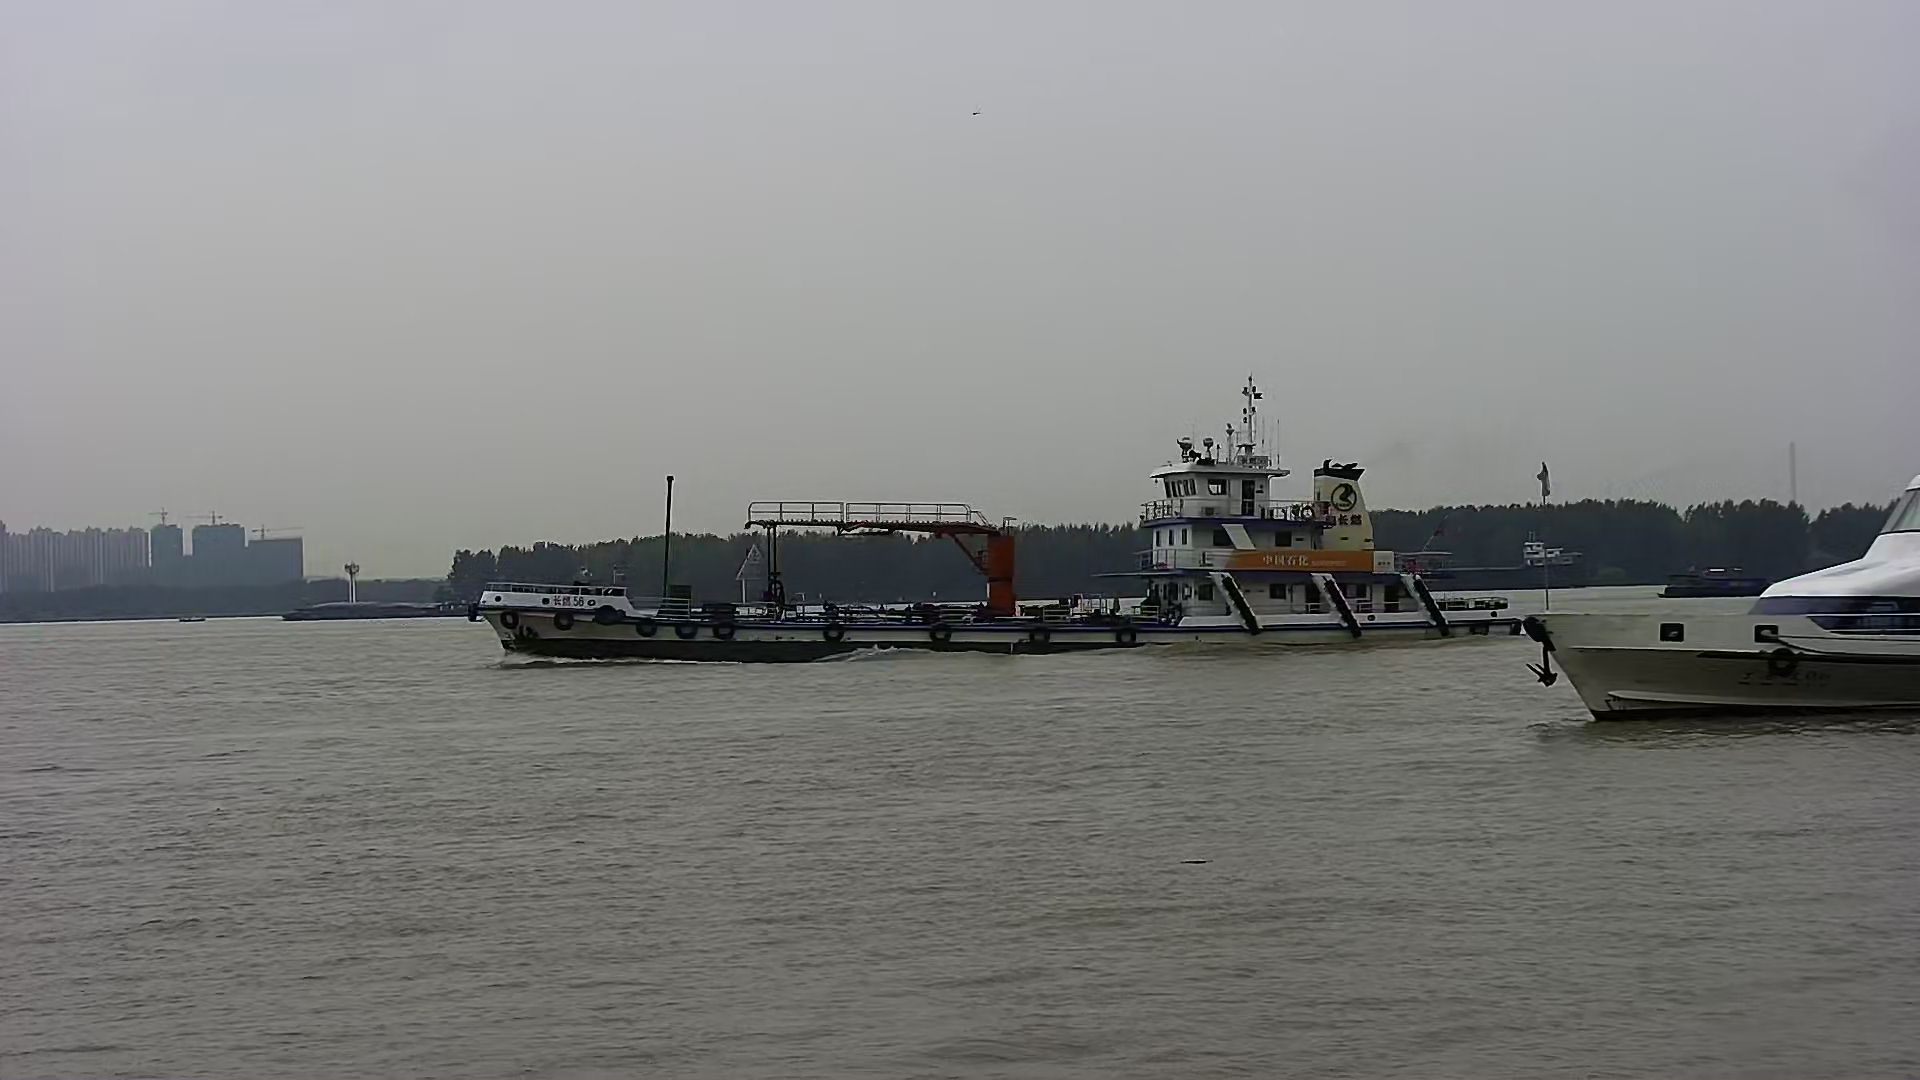ship: (483, 423, 1523, 655), (1520, 468, 1920, 719), (1383, 533, 1600, 592), (282, 567, 481, 620), (1650, 560, 1778, 599)
